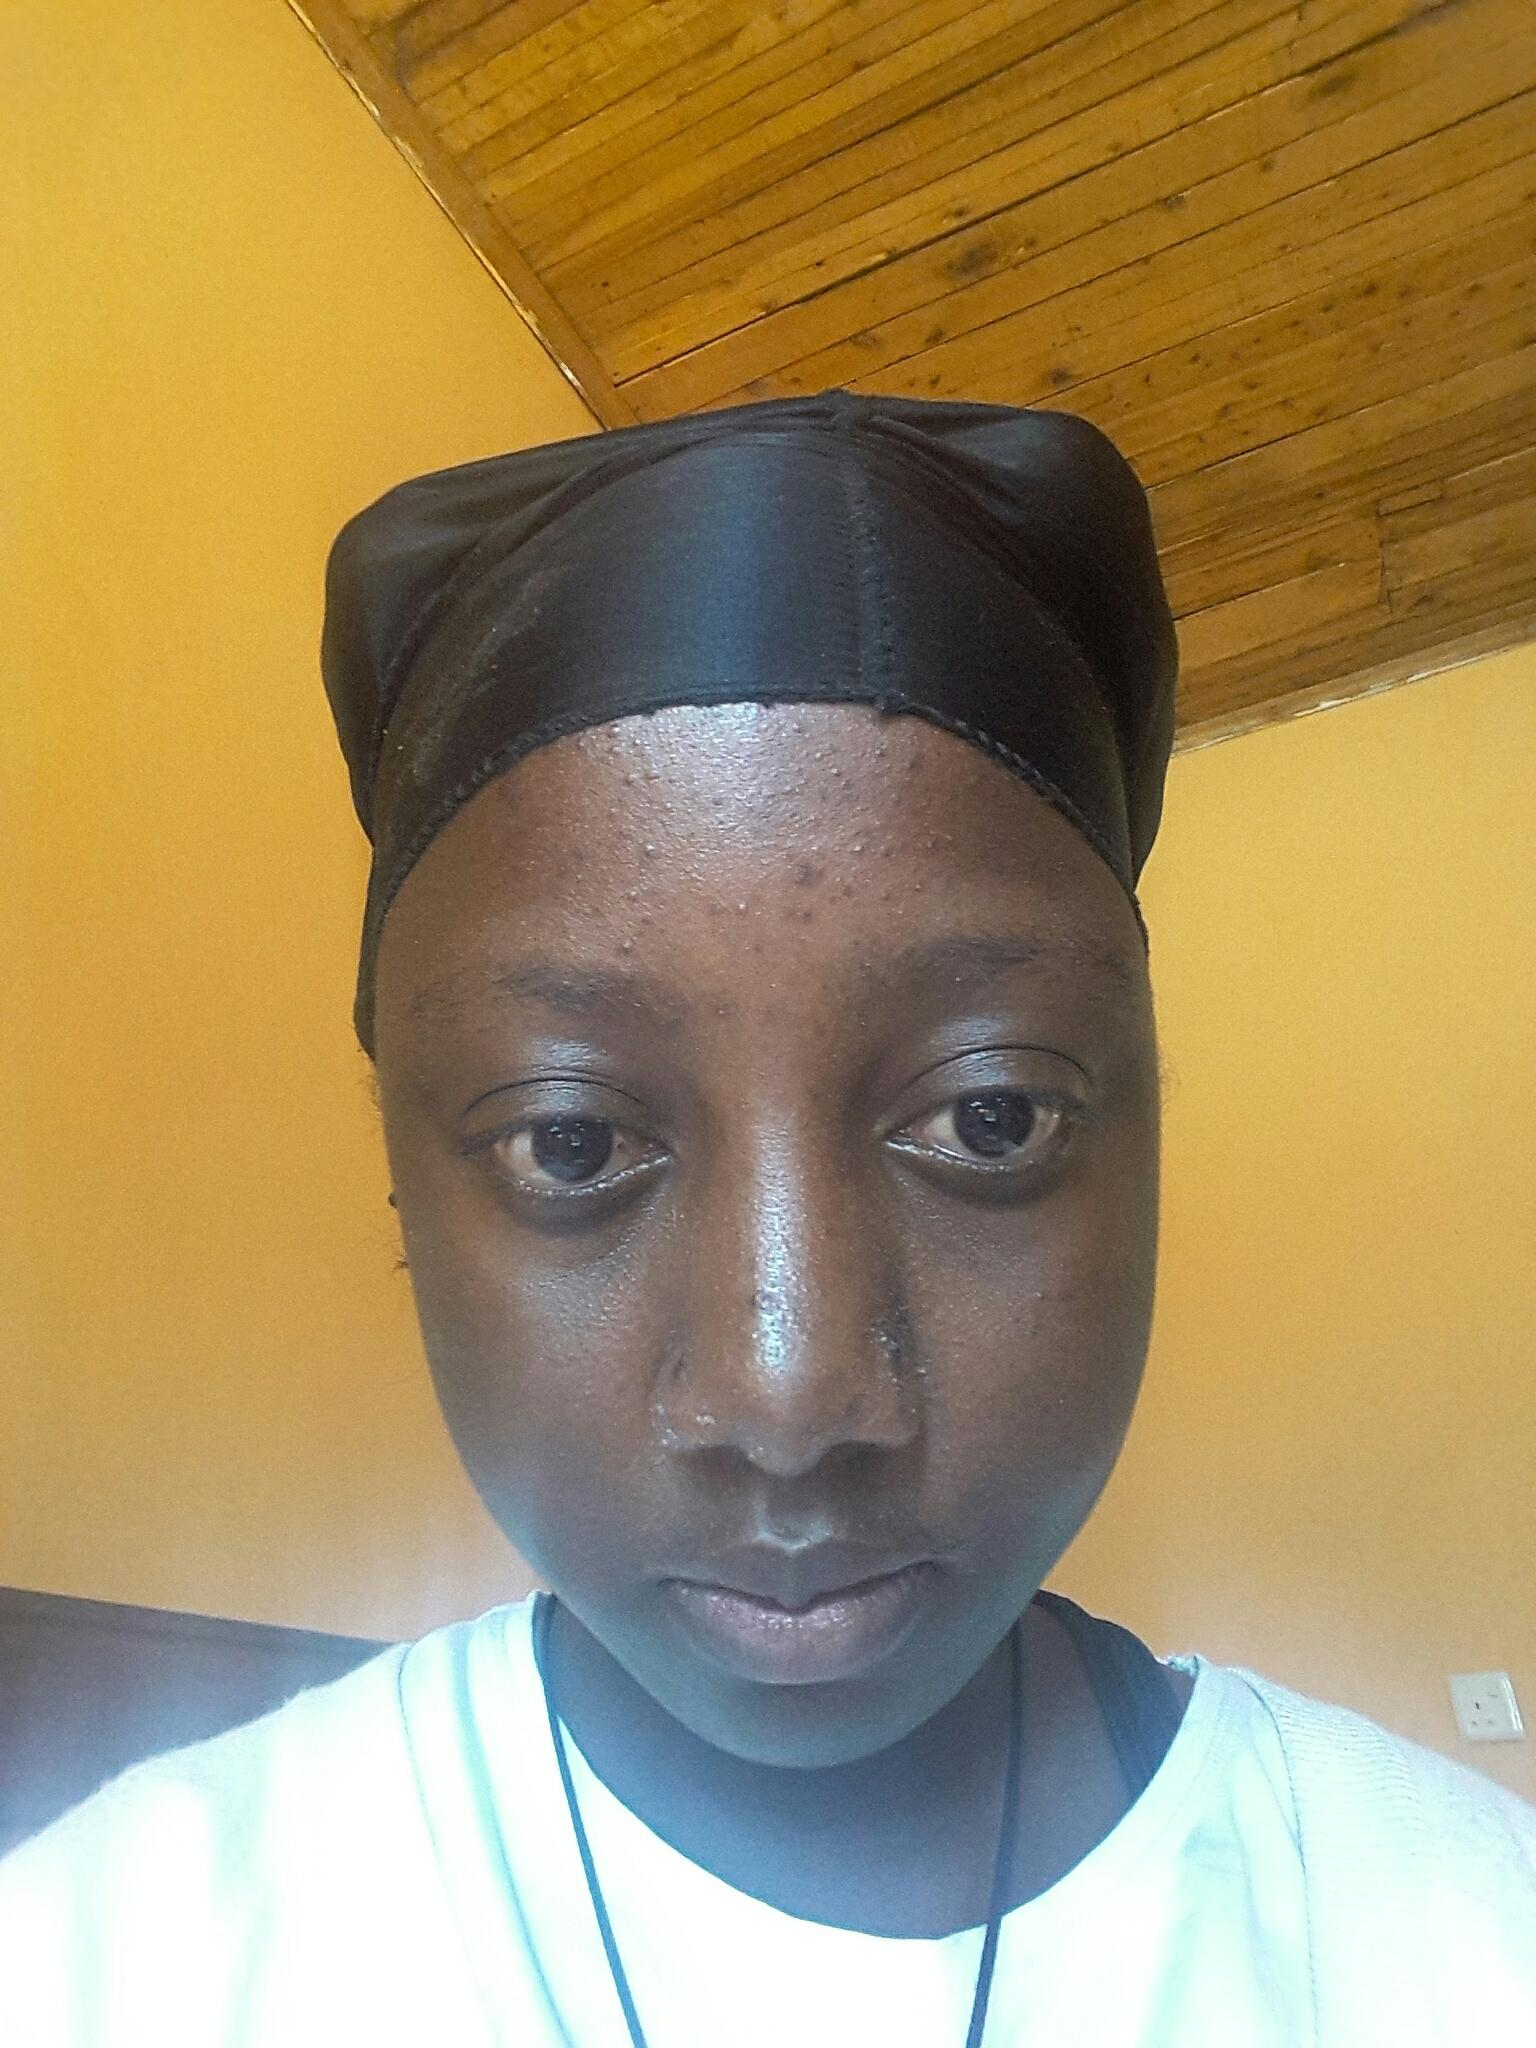Acne: (870, 1308, 936, 1398), (747, 1282, 789, 1316), (786, 858, 824, 885), (812, 747, 842, 780), (603, 722, 628, 756), (636, 840, 665, 863), (899, 750, 925, 772), (671, 1350, 691, 1379), (792, 901, 818, 922), (616, 934, 637, 958), (621, 885, 644, 906), (876, 884, 895, 906), (621, 768, 641, 789), (910, 876, 931, 895), (710, 1003, 733, 1021), (734, 895, 752, 916), (707, 790, 728, 808), (660, 798, 682, 814), (844, 839, 865, 855), (750, 937, 768, 955), (870, 742, 886, 761), (886, 789, 902, 808), (571, 739, 589, 753), (874, 842, 892, 856), (647, 768, 665, 782), (787, 721, 803, 735), (632, 737, 650, 750), (607, 803, 618, 821), (926, 835, 939, 850)
Eyebags: (473, 1156, 682, 1290), (874, 1134, 1073, 1271)
